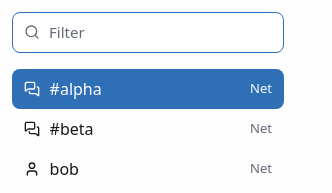
Test: SwitcherForm › submits on click and handles no results
Step 1. Click the option "#alpha Net" → coordinates (76, 88), box left=12, top=68, right=284, bottom=108
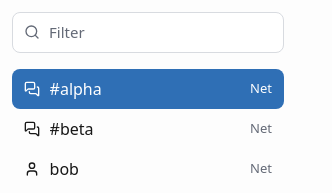
Step 2. Type "zzz" into the dropdown → coordinates (148, 32), box left=12, top=12, right=284, bottom=52
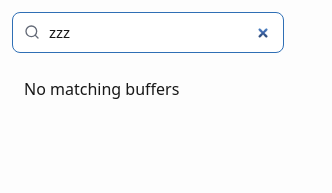
expect the option "No matching buffers" is shown: met, box left=24, top=78, right=179, bottom=100
